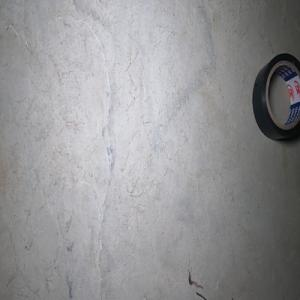Tape: (252, 52, 300, 140)
